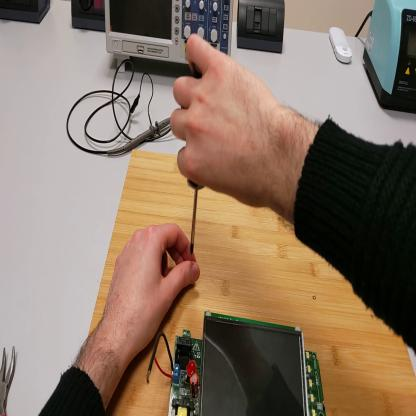hand: (170, 34, 275, 206), (106, 222, 199, 358)
low voltage board: (146, 305, 328, 415)
oscilloscope: (106, 1, 235, 77)
oscilloscope probe tip: (108, 115, 173, 155)
pliers: (2, 345, 17, 414)
screwdriver-: (187, 181, 205, 257)
socket: (2, 2, 52, 25), (71, 1, 106, 32)
welder station: (364, 3, 416, 115)
working area: (90, 149, 416, 416)
